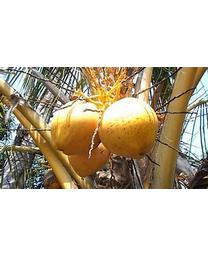coconut: (97, 96, 159, 158), (49, 97, 105, 155), (67, 124, 117, 178)
